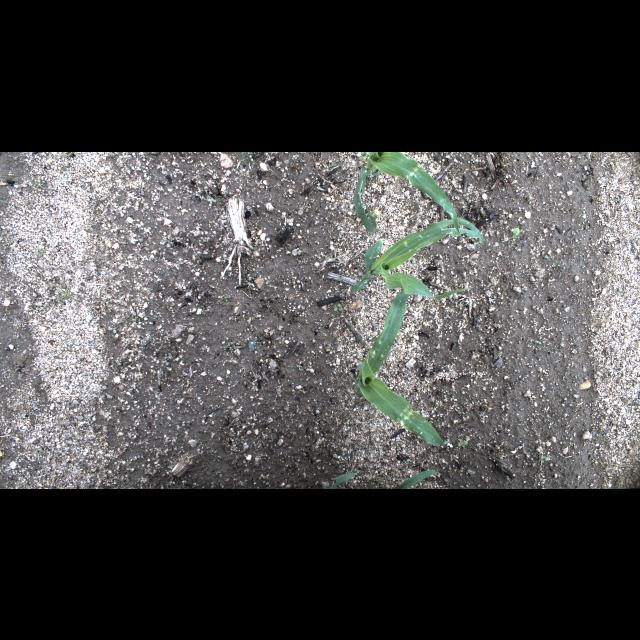crop: (355, 278, 449, 446), (350, 216, 484, 298), (353, 151, 461, 237), (327, 469, 437, 488), (512, 226, 520, 240)
weed: (54, 283, 84, 307), (216, 292, 230, 304), (34, 245, 44, 255), (54, 152, 70, 158), (356, 152, 372, 158), (457, 439, 469, 447), (333, 302, 343, 310), (208, 196, 218, 202), (248, 153, 255, 161), (326, 163, 332, 171), (540, 456, 548, 462), (222, 358, 228, 364), (37, 178, 41, 186), (534, 340, 542, 344), (40, 452, 44, 458), (228, 343, 232, 349), (228, 346, 232, 352), (297, 364, 301, 370)
